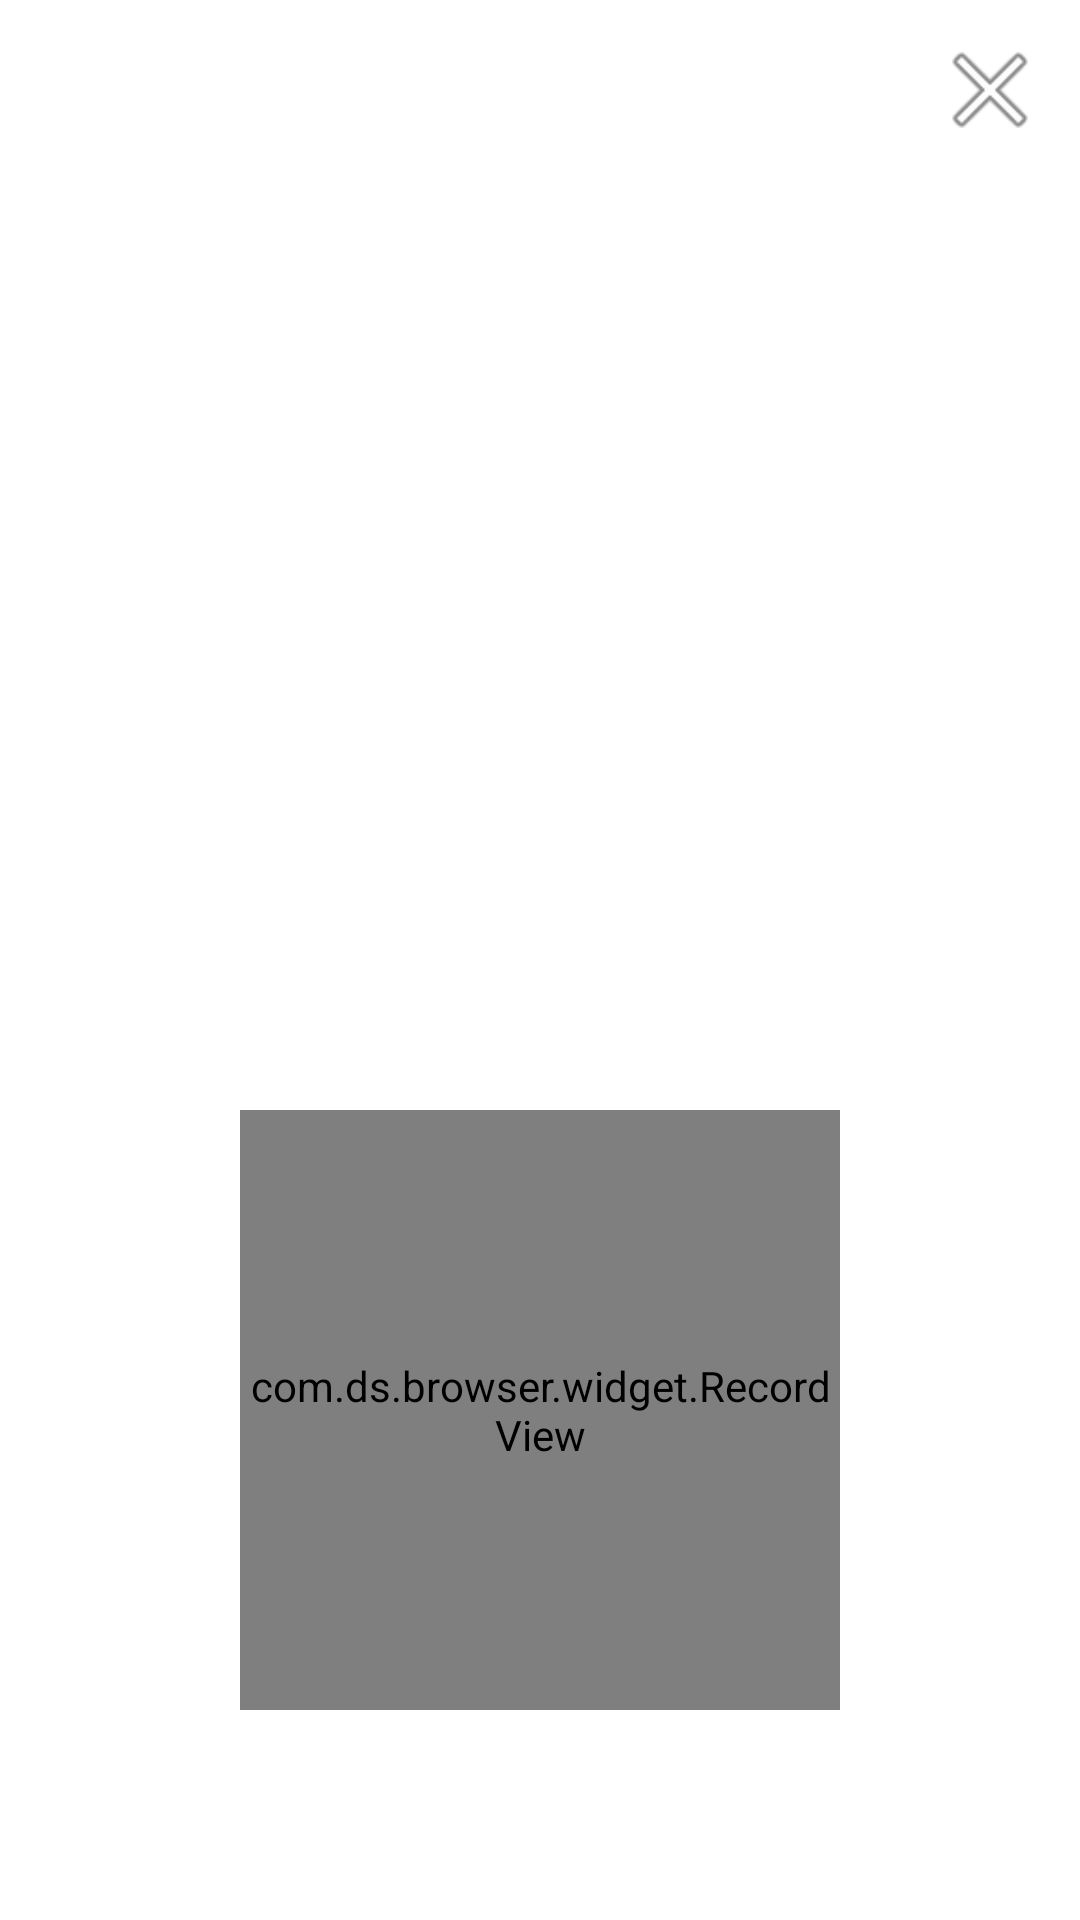

Screen size 1080 x 1920. Icon name, then its center in pixels as (x,y):
close clear cancel: (990,90)
